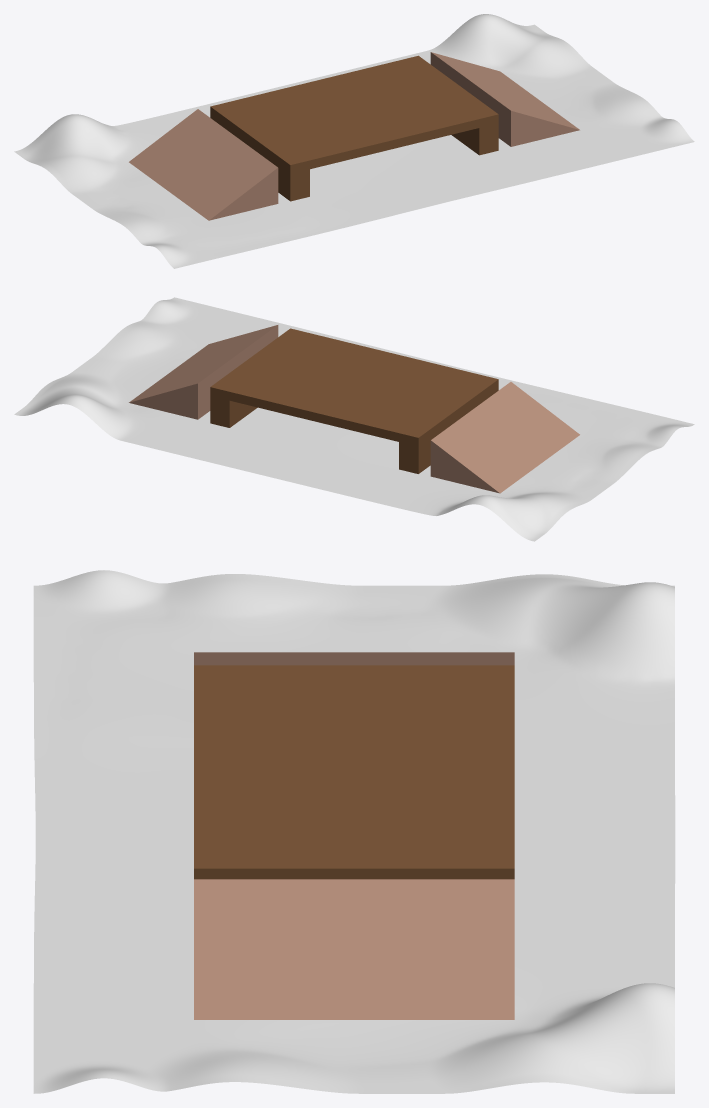
Rendered from ice1.fbx.
3 views of the same model, one above another, from view 1: azimuth 30°, elevation 25°; view 2: azimuth 150°, elevation 25°; view 3: azimuth 270°, elevation 25° (orthographic). The views are drawn at different scales.
Parts seen in each view (by area): view 1: minecraft terrain.001, Plane, ramp1, ramp2; view 2: minecraft terrain.001, Plane, ramp1, ramp2; view 3: minecraft terrain.001, Plane, ramp2, ramp1.
Boxes of the visible parts, box(x1,y1,x2,y2) form: minecraft terrain.001: box(14, 14, 694, 268); Plane: box(210, 55, 498, 201); ramp1: box(129, 109, 278, 220); ramp2: box(430, 52, 579, 146); minecraft terrain.001: box(14, 297, 694, 541); Plane: box(210, 328, 498, 473); ramp1: box(430, 382, 579, 493); ramp2: box(129, 325, 278, 419); minecraft terrain.001: box(33, 570, 675, 1093); Plane: box(194, 665, 514, 879); ramp2: box(194, 879, 514, 1019); ramp1: box(194, 652, 514, 665).
Bounding box in the file's own units: 300 × 21.23 × 160.
